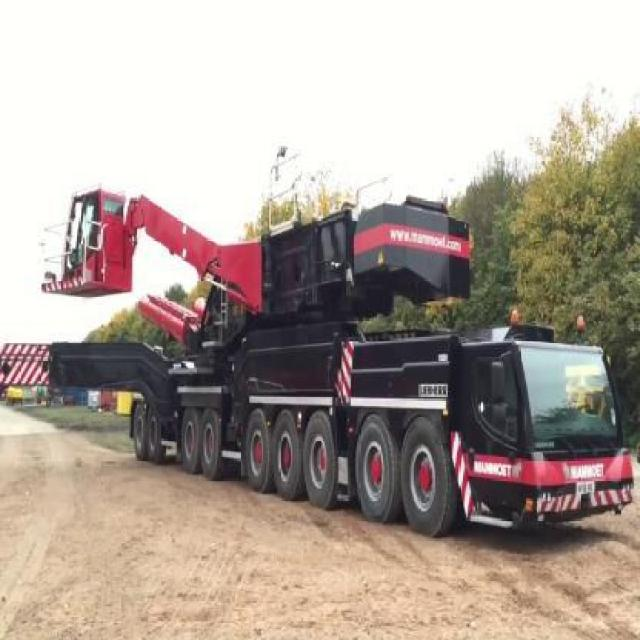Mobile Crane: (0, 183, 632, 545)
